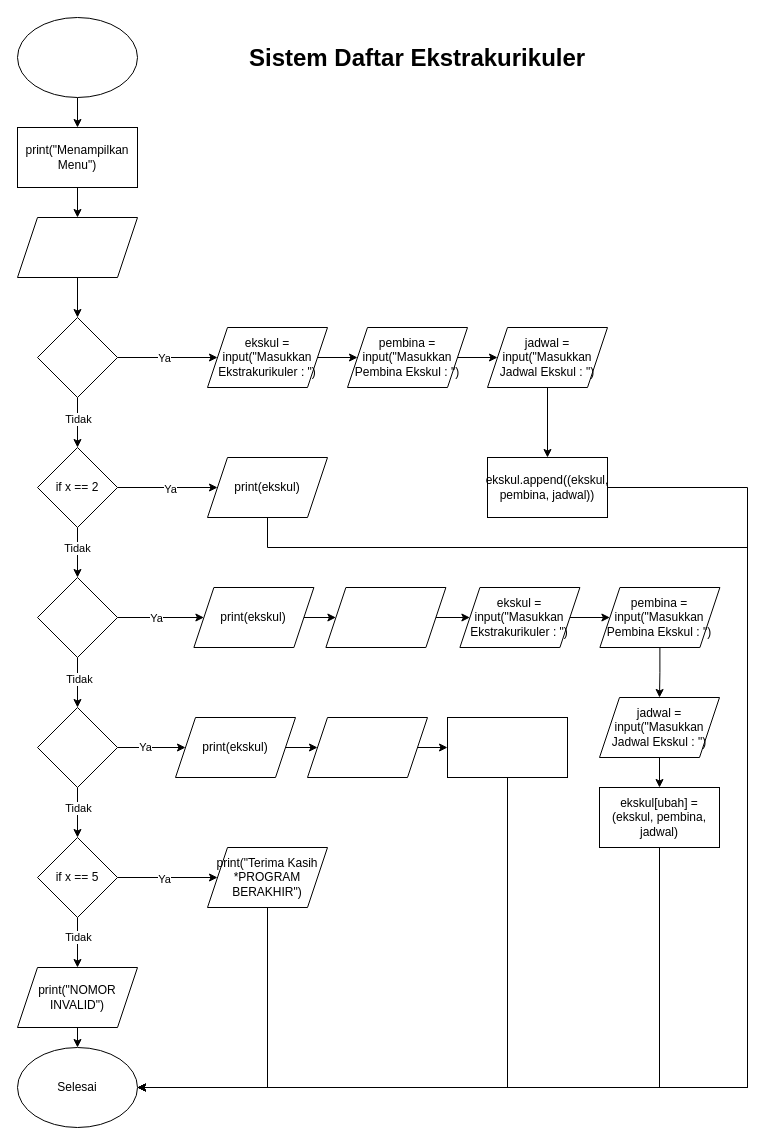
The diagram is 773 pixels wide and 1145 high, and some of its shapes have lost their labels. Each missing label, with the box of its shape:
data = int(input("Masukkan Pilihan : ")): (16, 216, 138, 278)
del ekskul[ubah]: (446, 716, 568, 778)
if x == 1: (36, 316, 118, 398)
if x == 3: (36, 576, 118, 658)
if x == 4: (36, 706, 118, 788)
Mulai: (16, 16, 138, 98)
ubah = input("Masukkan Pilihan Ekskul Yang Ingin di HAPUS") - 1: (306, 716, 428, 778)
ubah = input("Masukkan Pilihan Ekskul Yang Ingin di UBAH") - 1: (325, 586, 446, 648)
